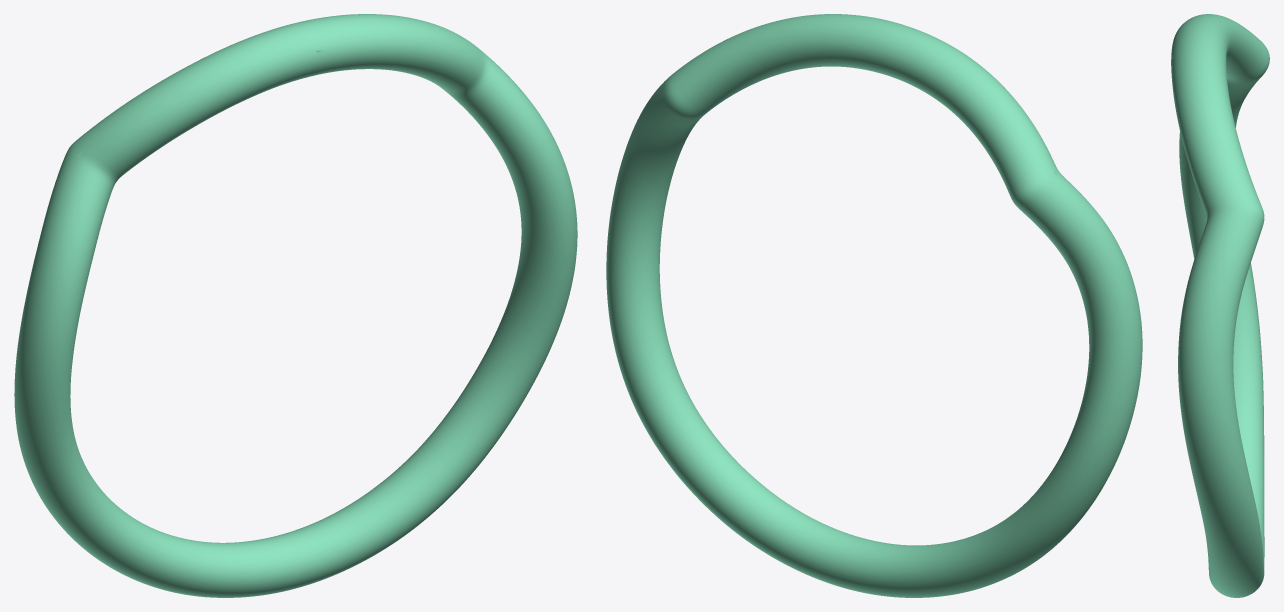
3 renders of one model, left to right at view 1: azimuth 30°, elevation 25°; view 2: azimuth 150°, elevation 25°; view 3: azimuth 270°, elevation 25°, orthographic. The views are drawn at different scales.
Visible parts, largest first — view 1: Metal03; view 2: Metal03; view 3: Metal03.
Boxes of the visible parts, left/top/right/bottom form: Metal03: left=14, top=14, right=577, bottom=597; Metal03: left=606, top=14, right=1142, bottom=597; Metal03: left=1171, top=14, right=1269, bottom=597.
Bounding box in the file's own units: 20.88 × 20.88 × 3.53.
